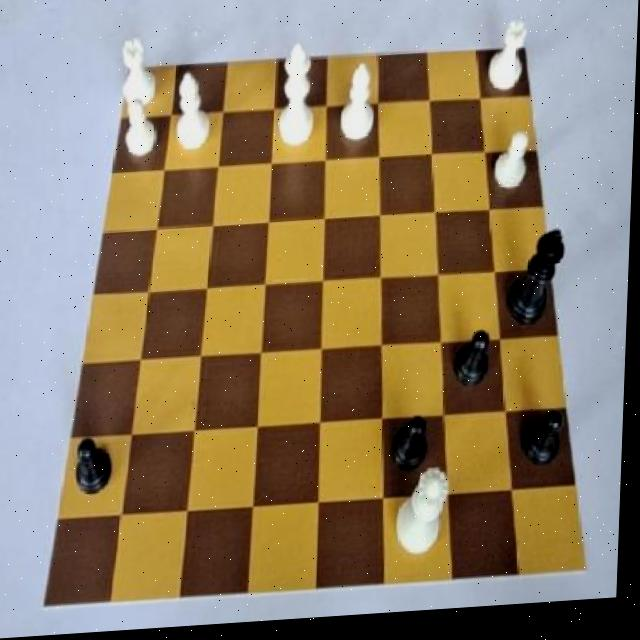black-bishop: (504, 233, 570, 345)
black-knight: (521, 405, 574, 484), (76, 427, 121, 511), (392, 410, 440, 487), (454, 333, 500, 410)
black-rook: (174, 69, 216, 160), (337, 66, 378, 154)
white-bishop: (273, 43, 320, 154)
white-knight: (112, 90, 165, 167), (490, 135, 534, 199)
white-pawn: (396, 469, 458, 570)
white-queen: (486, 23, 533, 114), (120, 33, 163, 111)
